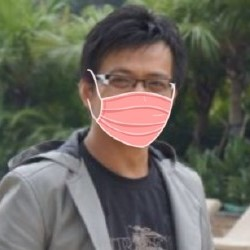mask: (76, 65, 184, 155)
